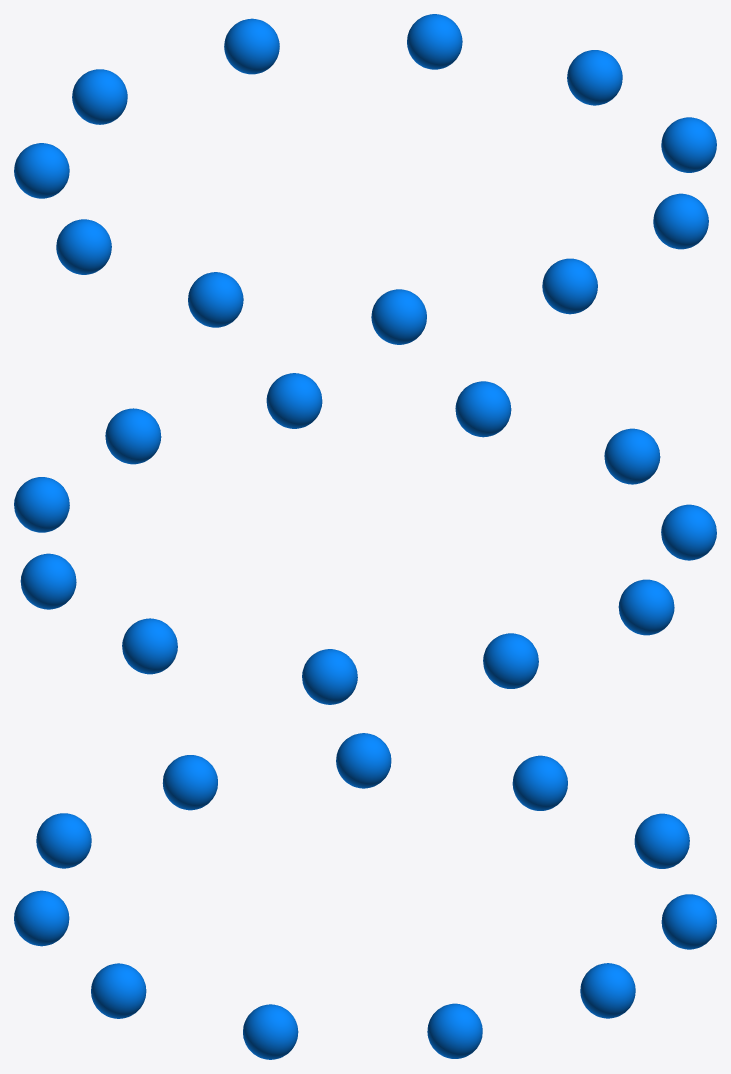
The picture shows the model from 3 angles, top to bottom: view 1: azimuth 30°, elevation 25°; view 2: azimuth 150°, elevation 25°; view 3: azimuth 270°, elevation 25°; orthographic projection.
Visible parts, largest first — view 1: Sphere047; view 2: Sphere047; view 3: Sphere047.
Part boxes in pixels (left/top/right/bottom): Sphere047: left=14, top=14, right=716, bottom=344; Sphere047: left=14, top=373, right=716, bottom=704; Sphere047: left=14, top=733, right=716, bottom=1059.
Bounding box in the file's own units: 103 × 8.22 × 104.
